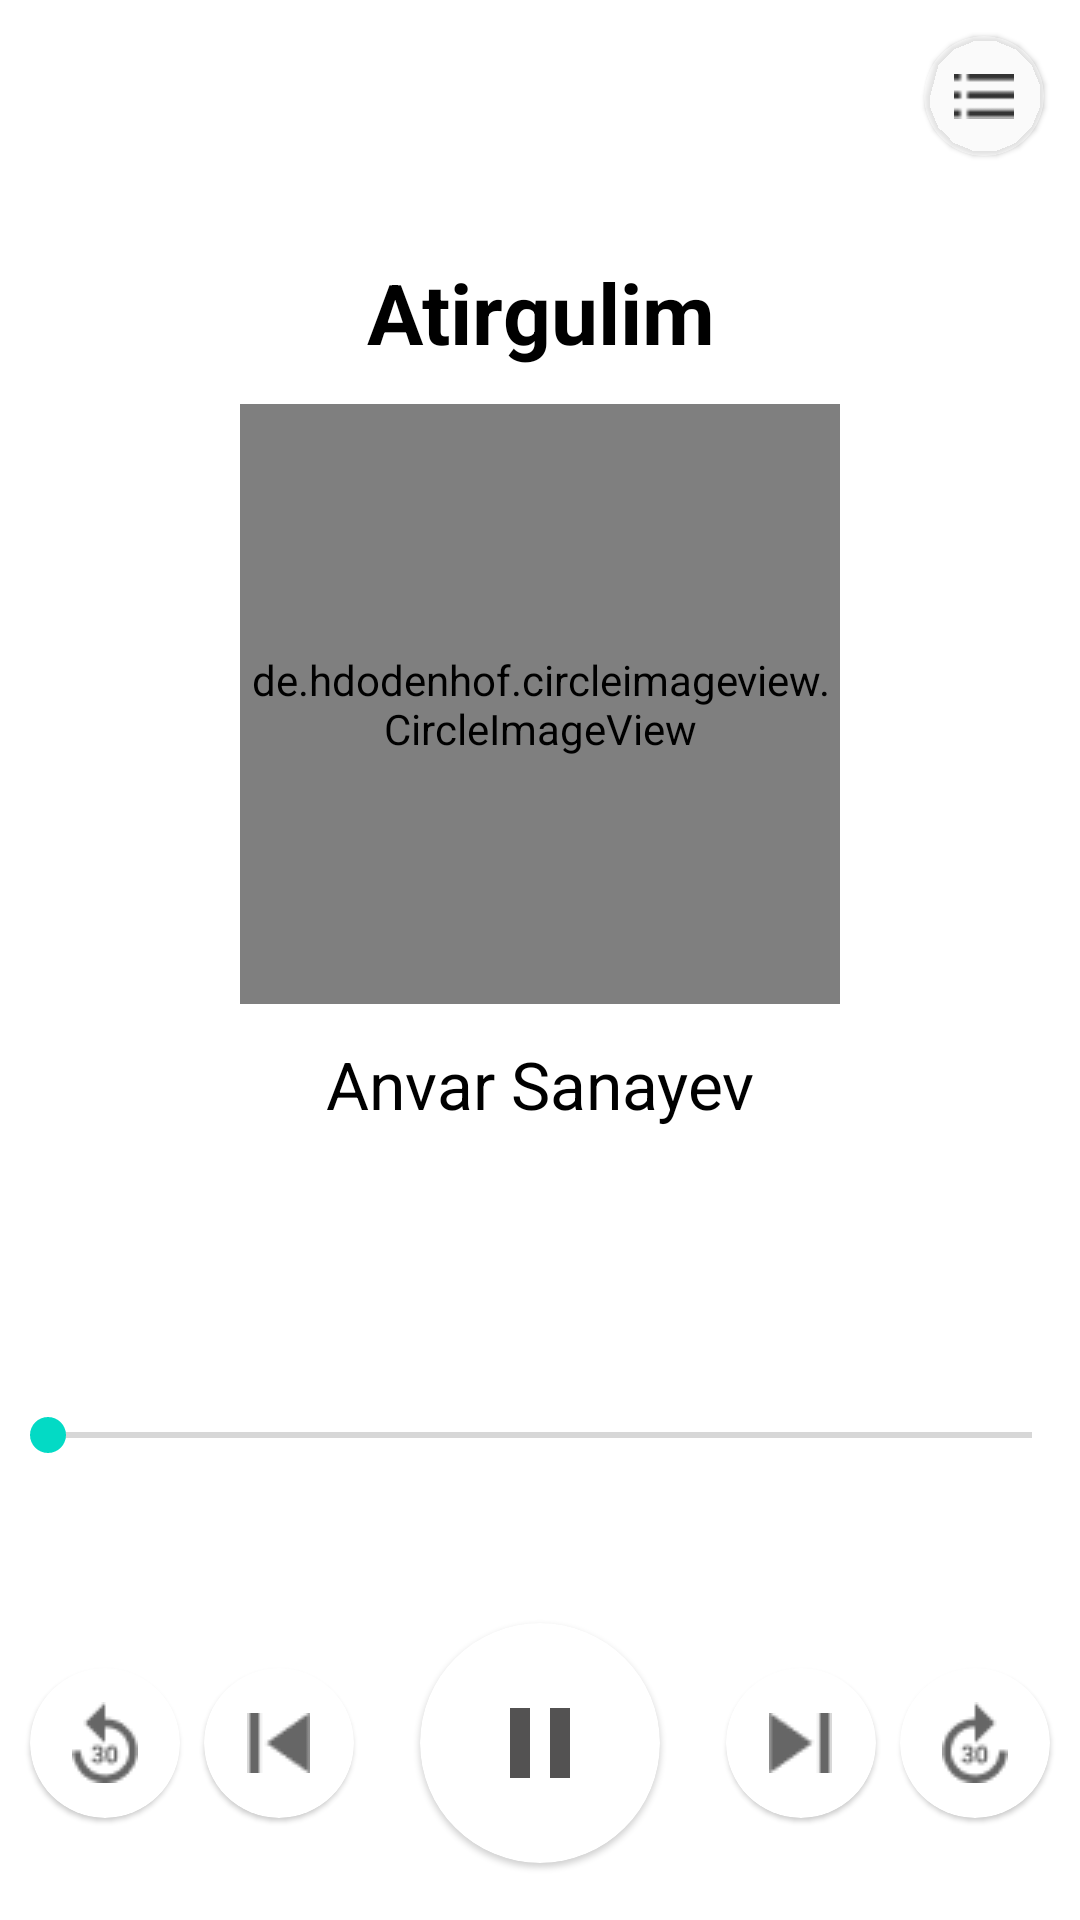

Where icons sit on this 1080x1920 app screen, as [x1, y1, x2, y2]:
pause: [510, 1708, 570, 1778]
